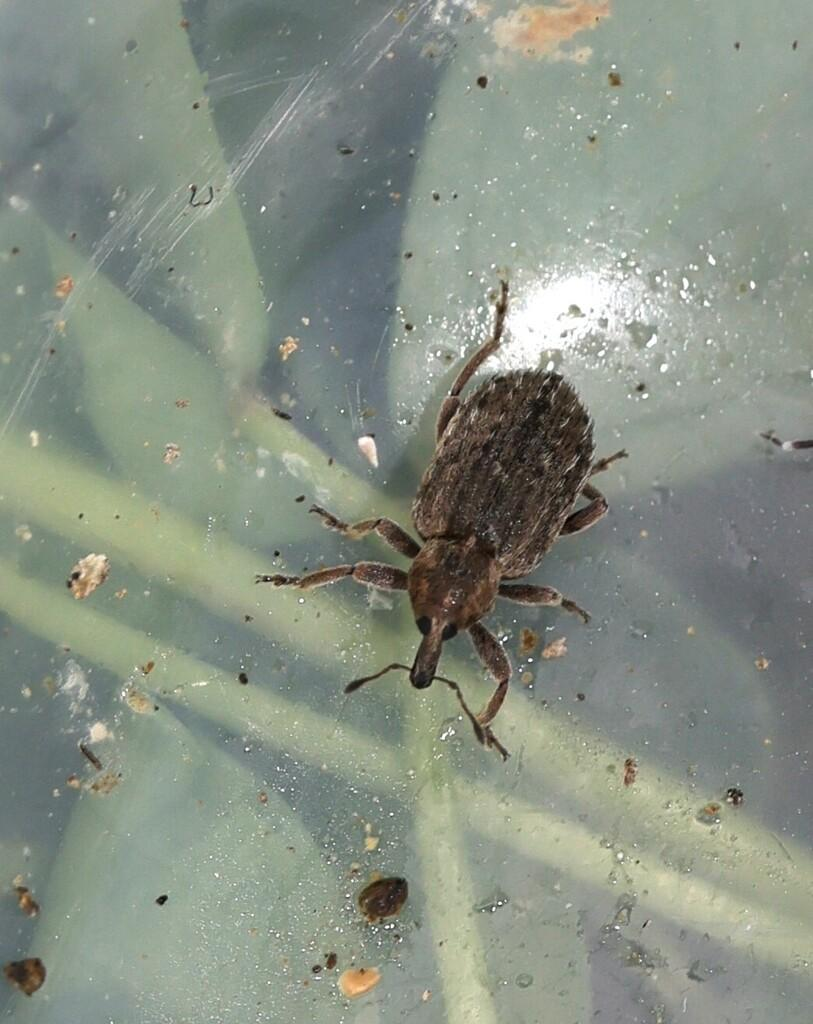weevils: (224, 241, 693, 801)
